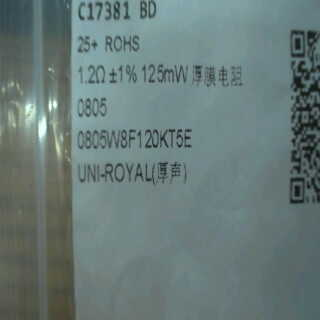1.2R: (74, 63, 109, 122)
